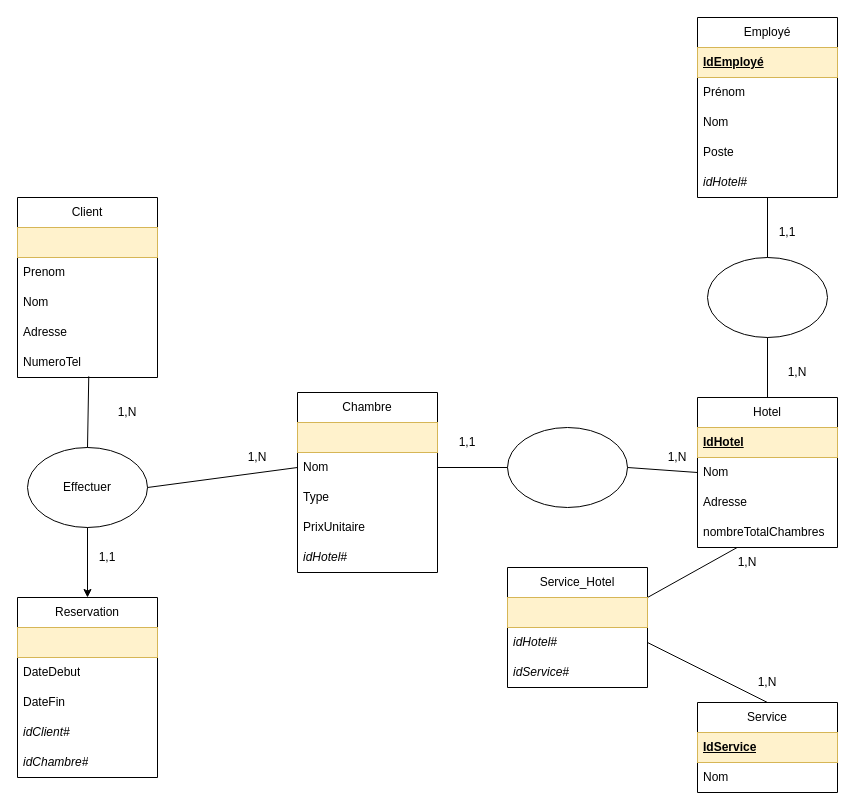
Image size: 855x810. Some labels were removed from this diagram. Here are the shapes that lost their labels. From the top down, the centre of each, then its label:
At (87,242): "IdClient".
At (767,297): "Travailler".
At (367,437): "IdChambre".
At (567,467): "Avoir".
At (577,612): "IdServiceHotel".
At (87,642): "IdRes".
